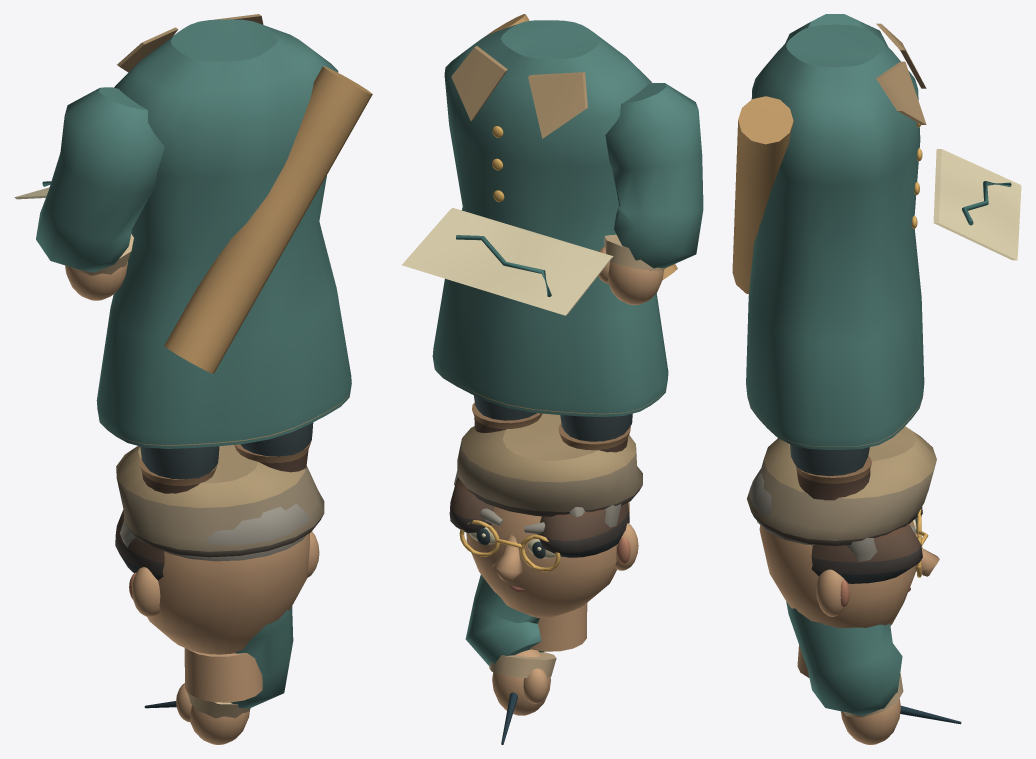
Rendered from cartographer.glb.
The picture shows the model from 3 angles, left to right: view 1: azimuth 30°, elevation 25°; view 2: azimuth 150°, elevation 25°; view 3: azimuth 270°, elevation 25°; orthographic projection. The views are drawn at different scales.
Parts seen in each view (by area): view 1: Chest, Head, GreetingArm; view 2: Chest, Head, GreetingArm; view 3: Chest, Head, GreetingArm.
Part boxes in pixels (x1,y1,x2,y2): Chest: (14,14,372,580); Head: (116,445,324,702); GreetingArm: (144,606,293,744); Chest: (402,14,703,557); Head: (454,413,642,651); GreetingArm: (465,574,556,744); Chest: (732,14,1021,583); Head: (747,426,939,677); GreetingArm: (786,601,961,744).
Bounding box in the file's own units: 0.7184 × 1.76 × 0.667.
Materials: 1 (1 with a texture image).
